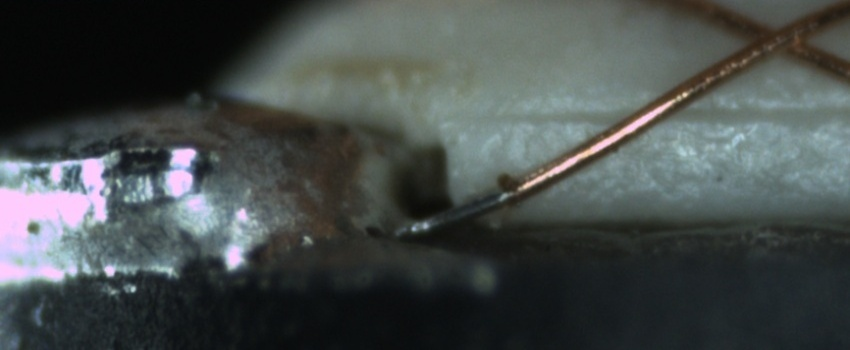CL: (725, 3, 829, 69)
DL: (494, 83, 849, 151)
TS: (393, 187, 515, 238)
